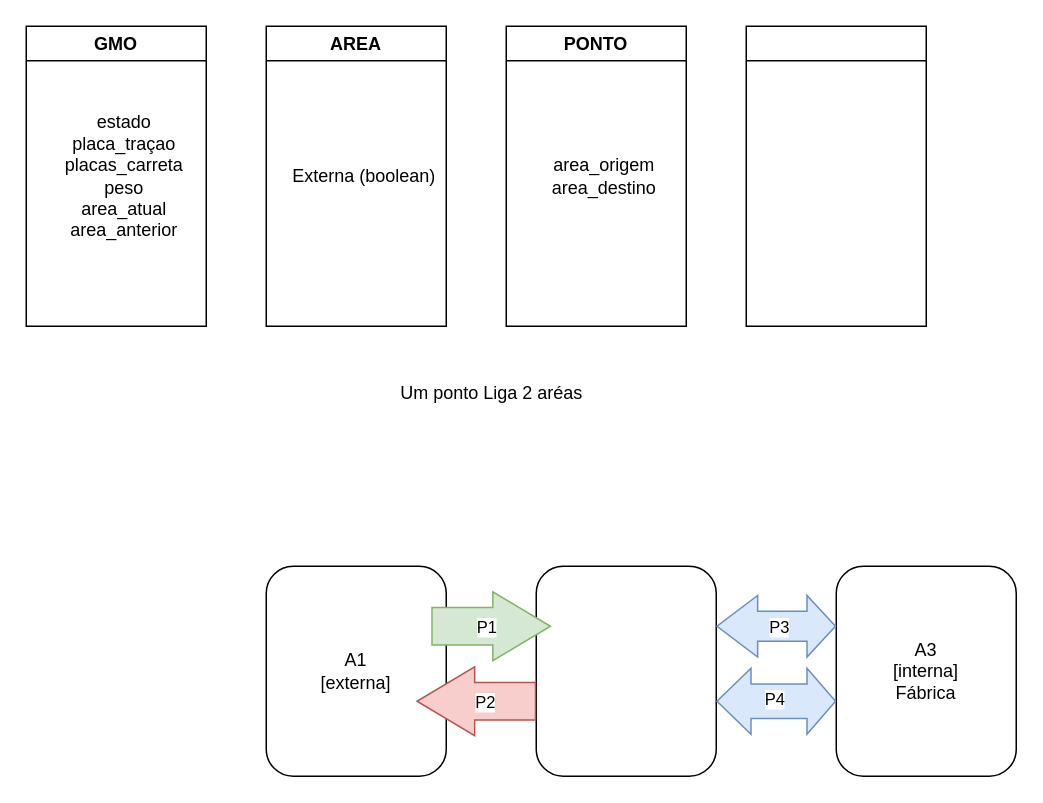
The diagram is 1043 pixels wide and 803 high, and some of its shapes have lost their labels. Here are the shapes that lost their labels. From the top down, the centre of each, then its label:
At pixel 835 175: "ROTA".
At pixel 625 670: "A2 [interna] Pátio".
